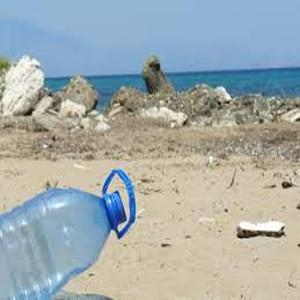Plastic: (0, 187, 126, 300)
